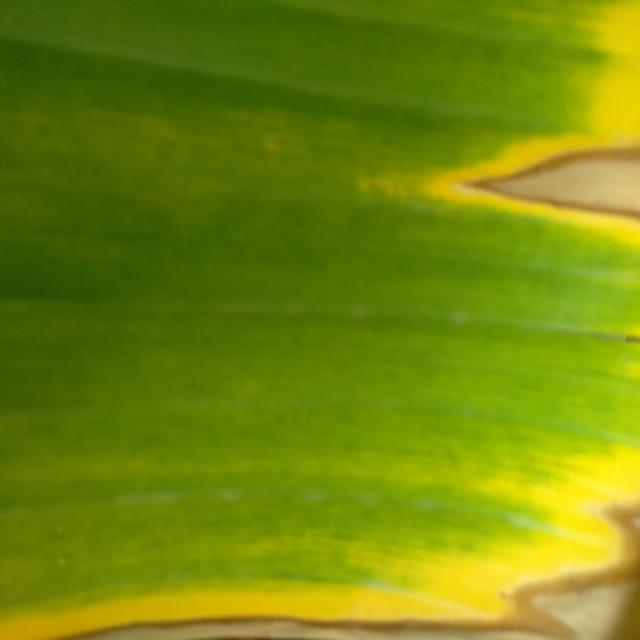Cordana: (1, 313, 640, 640), (377, 0, 640, 427)
